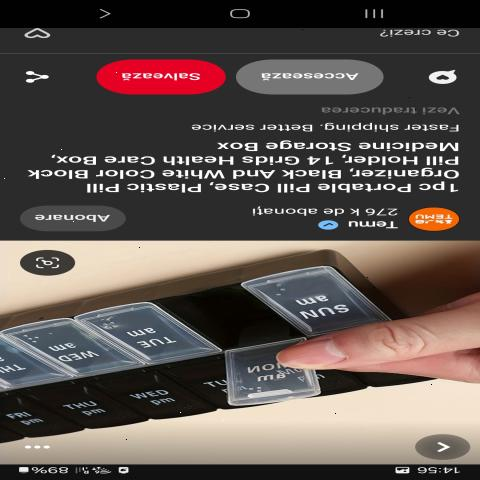PillBox: (0, 253, 447, 449)
